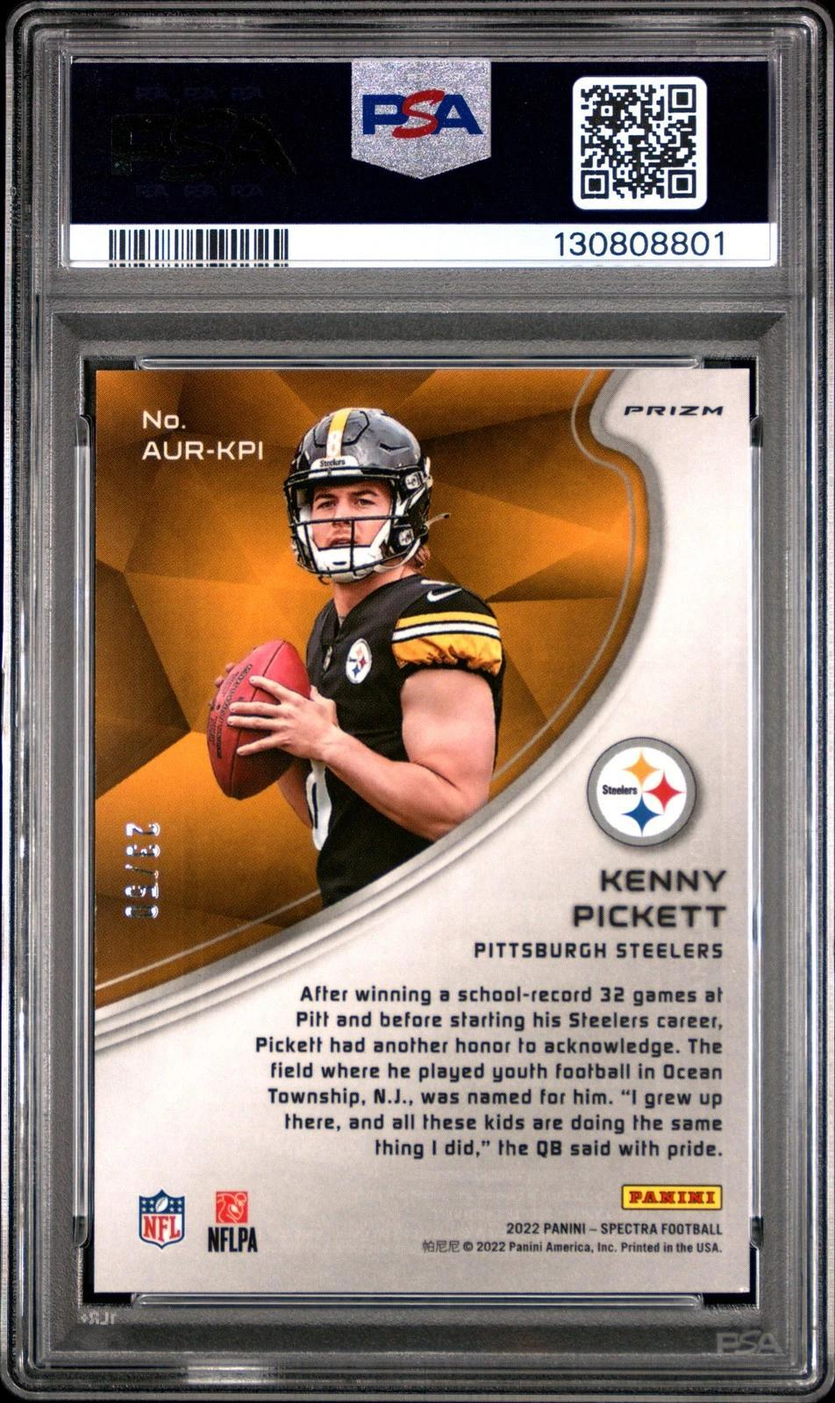card-2UtV: (93, 367, 751, 1294)
